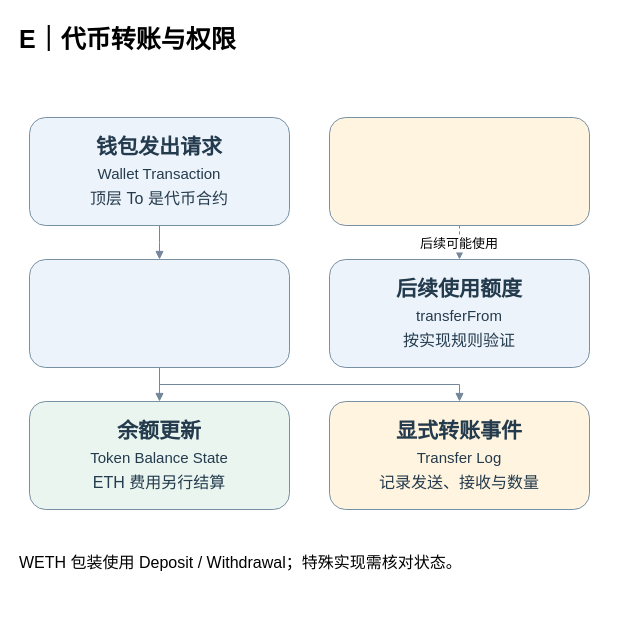
The diagram is 618 pixels wide and 633 high, and some of its shapes have lost their labels. Each missing label, with the centre of its shape:
"代币规则执行 Token Contract 调用 transfer / transferFrom" belongs at point 159,313.
"设置使用额度 Approve / Allowance 权限，不是资金到账" belongs at point 459,171.
